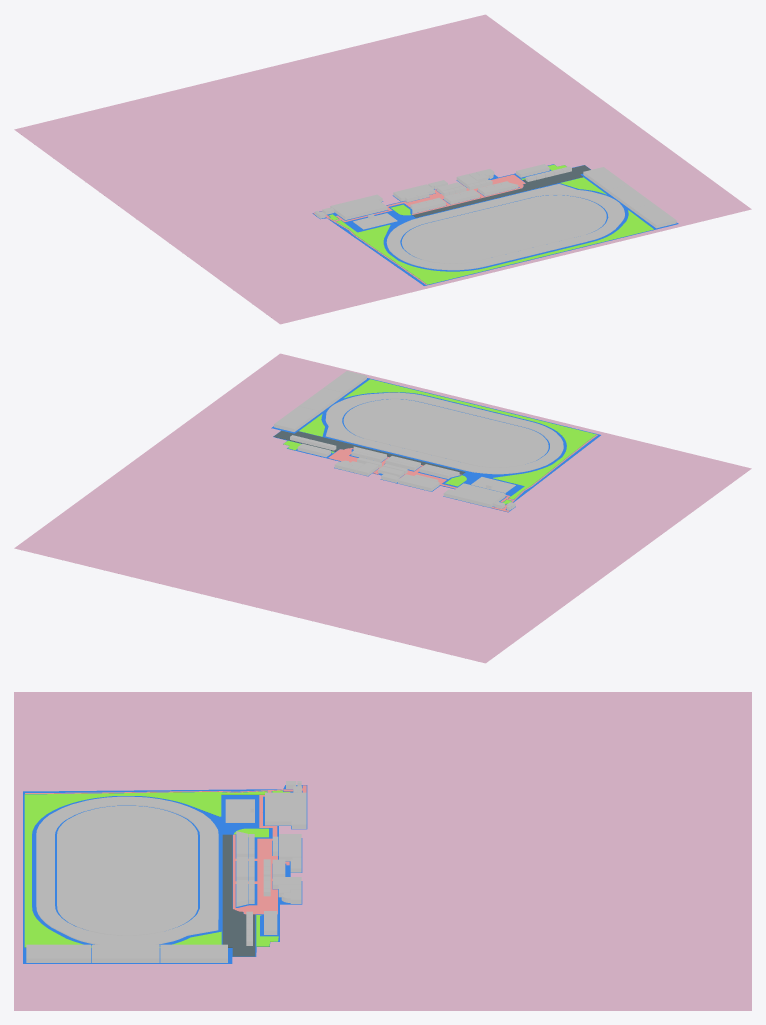
The model's file is njc-b3-v6-8-5.glb.
The picture shows the model from 3 angles, top to bottom: view 1: azimuth 30°, elevation 25°; view 2: azimuth 150°, elevation 25°; view 3: azimuth 270°, elevation 25°; orthographic projection. The views are drawn at different scales.
Parts seen in each view (by area): view 1: Grey, Field, Track, None, Base, Grass, Drive, Foot, ISH, Grandstand; view 2: Grey, Field, Track, None, Base, Grass, ISH, Drive, Foot, Grandstand; view 3: Grey, Field, Track, None, Base, Grass, Foot, Drive, ISH, Grandstand, Basketball Court.
Boxes of the visible parts, box(x1,y1,x2,y2) form: Grey: box(14, 14, 751, 324); Field: box(401, 195, 606, 263); Track: box(386, 184, 624, 270); None: box(393, 164, 676, 228); Base: box(312, 164, 678, 285); Grass: box(329, 164, 653, 284); Drive: box(412, 165, 590, 217); Foot: box(313, 174, 525, 284); ISH: box(330, 194, 387, 219); Grandstand: box(412, 182, 518, 213); Grey: box(14, 353, 751, 663); Field: box(343, 399, 548, 467); Track: box(325, 392, 563, 474); None: box(274, 371, 450, 491); Base: box(271, 378, 600, 512); Grass: box(283, 379, 596, 504); ISH: box(443, 483, 505, 507); Drive: box(273, 430, 465, 474); Foot: box(328, 434, 597, 511); Grandstand: box(353, 446, 459, 477); Grey: box(14, 692, 751, 1010); Field: box(57, 806, 197, 935); Track: box(36, 796, 218, 944); None: box(26, 834, 301, 962); Base: box(23, 785, 307, 963); Grass: box(24, 790, 290, 947); Foot: box(25, 785, 306, 914); Drive: box(222, 834, 255, 956); ISH: box(265, 792, 306, 828); Grandstand: box(236, 831, 248, 906); Basketball Court: box(225, 799, 254, 822).
Bounding box in the file's own units: 30 × 0.2 × 29.33.
